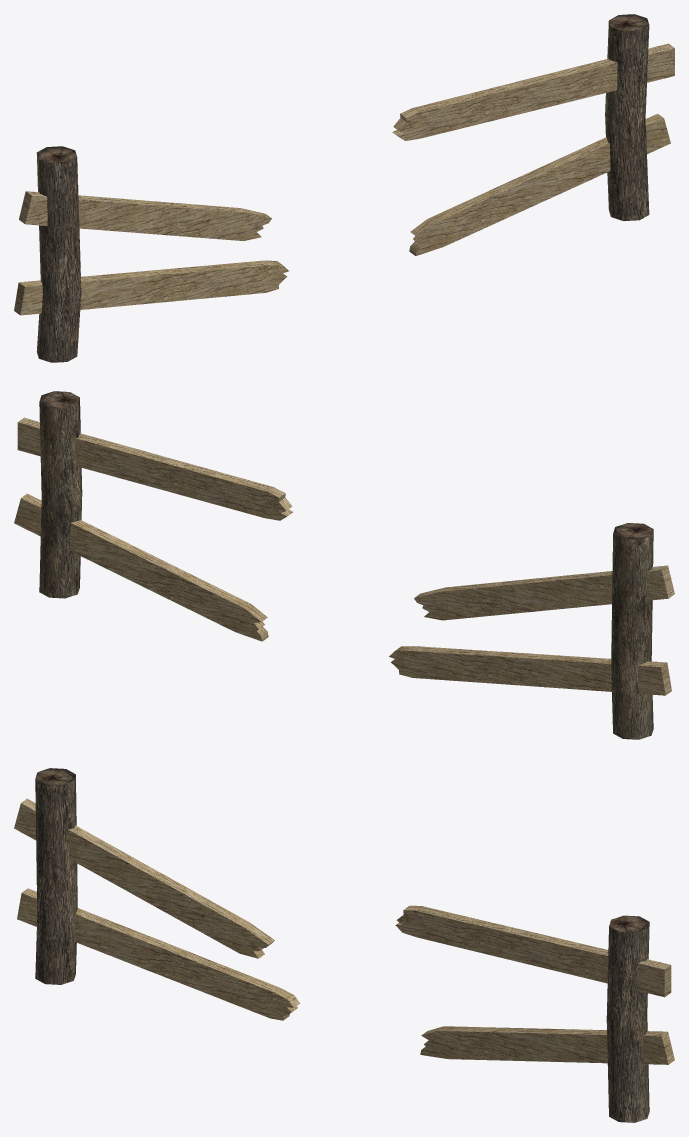
Rendered from woodenFence05.FBX.
3 views of the same model, one above another, from view 1: azimuth 30°, elevation 25°; view 2: azimuth 150°, elevation 25°; view 3: azimuth 330°, elevation 25° (orthographic).
Parts seen in each view (by area): view 1: wooden_fence_large_broken_2poles; view 2: wooden_fence_large_broken_2poles; view 3: wooden_fence_large_broken_2poles.
Part boxes in pixels (x1=…): wooden_fence_large_broken_2poles: x1=14, y1=14, x2=674, y2=362; wooden_fence_large_broken_2poles: x1=14, y1=391, x2=674, y2=739; wooden_fence_large_broken_2poles: x1=14, y1=768, x2=674, y2=1122.
Size of the model in its own units: 512 by 150 by 31.63.
